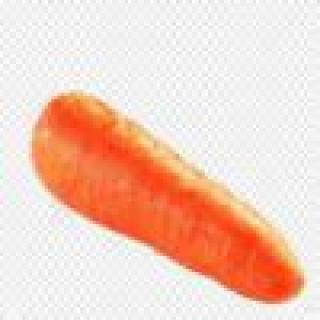Wortel: (17, 75, 308, 315)
